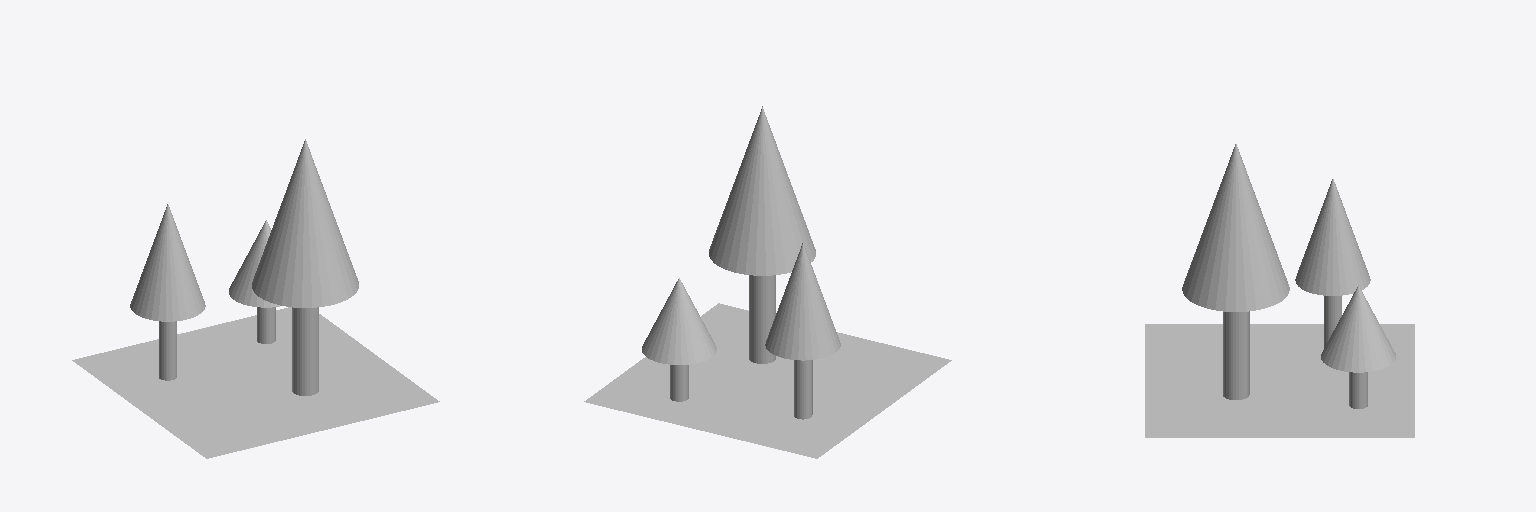
Rendered from ground-3trees.obj.
The picture shows the model from 3 angles: view 1: azimuth 30°, elevation 25°; view 2: azimuth 150°, elevation 25°; view 3: azimuth 270°, elevation 25°; orthographic projection.
Parts seen in each view (by area): view 1: Plane.001, Cone, Cone.001, Cylinder, Cone.002, Cylinder.001, Cylinder.002; view 2: Plane.001, Cone, Cone.001, Cone.002, Cylinder, Cylinder.001, Cylinder.002; view 3: Plane.001, Cone, Cone.001, Cone.002, Cylinder, Cylinder.002, Cylinder.001.
Part boxes in pixels (bbox=[...]): Plane.001: bbox=[72, 307, 439, 458]; Cone: bbox=[252, 139, 358, 307]; Cone.001: bbox=[130, 204, 205, 321]; Cylinder: bbox=[292, 307, 318, 395]; Cone.002: bbox=[229, 220, 279, 307]; Cylinder.001: bbox=[159, 321, 176, 380]; Cylinder.002: bbox=[257, 307, 275, 343]; Plane.001: bbox=[584, 303, 951, 458]; Cone: bbox=[709, 106, 815, 275]; Cone.001: bbox=[765, 243, 840, 360]; Cone.002: bbox=[642, 278, 716, 364]; Cylinder: bbox=[749, 275, 775, 363]; Cylinder.001: bbox=[794, 360, 812, 419]; Cylinder.002: bbox=[670, 365, 688, 401]; Plane.001: bbox=[1145, 324, 1414, 437]; Cone: bbox=[1182, 144, 1289, 311]; Cone.001: bbox=[1295, 179, 1370, 295]; Cone.002: bbox=[1321, 285, 1395, 372]; Cylinder: bbox=[1223, 311, 1249, 399]; Cylinder.002: bbox=[1349, 372, 1367, 408]; Cylinder.001: bbox=[1324, 296, 1341, 347].
Bounding box in the file's own units: 10 × 10.37 × 10.